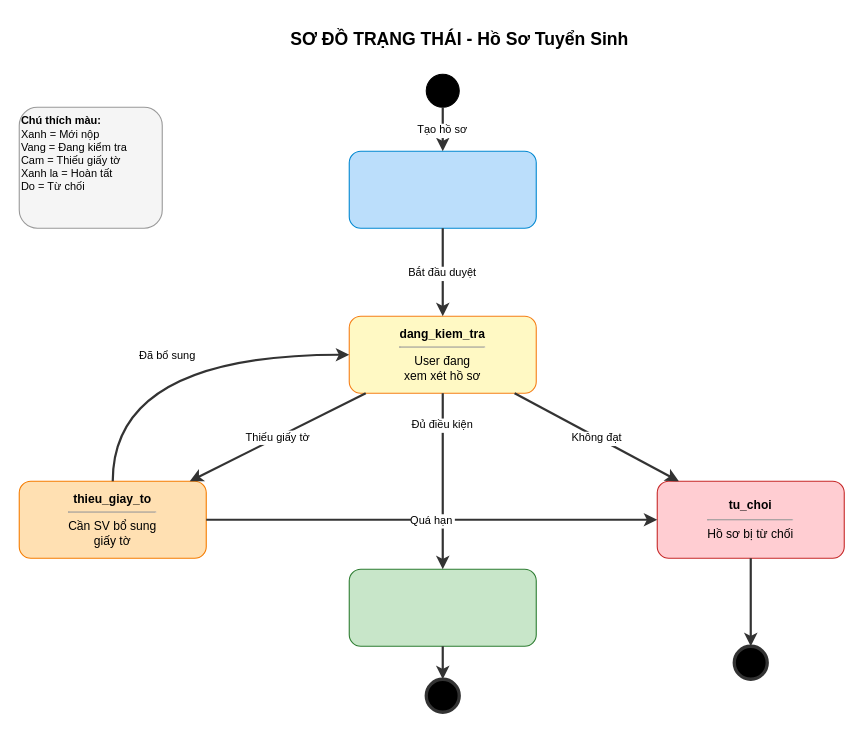
The diagram is 864 pixels wide and 733 high, and some of its shapes have lost their labels. Each missing label, with the centre of its shape:
"hoan_tat Hồ sơ đầy đủ SV được nhận" belongs at [442,607].
"moi_nop Hồ sơ vừa nộp Chưa ai xử lý" belongs at [442,189].
